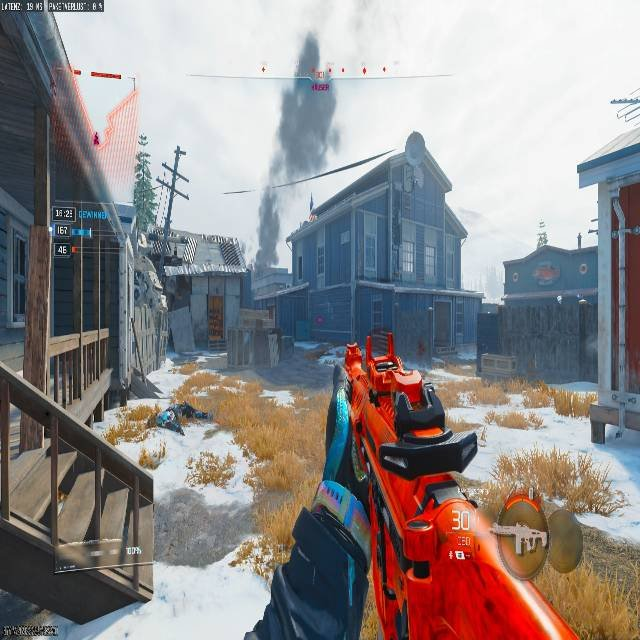player: (156, 405, 185, 435)
